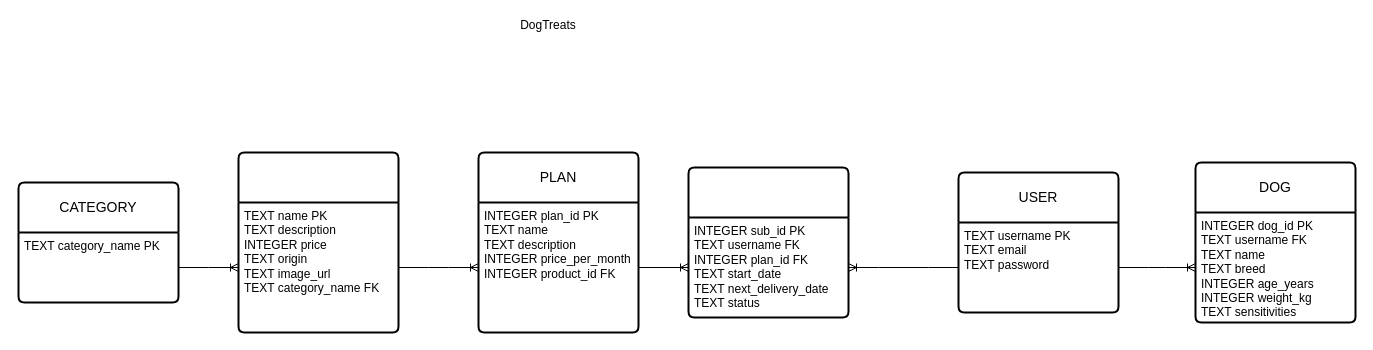
This 1373x350 diagram has some shape labels left out. The shapes that lost their labels are listed below. From the top down, each one's box as (x1, y1, x2, y2) in pixels, then its label:
(237, 151, 399, 333): PRODUCT
(687, 166, 849, 318): SUBSCRIPTION
